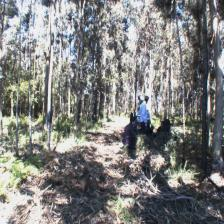trunktrack_idkeyframe: (212, 62, 224, 155), (204, 62, 212, 166)
